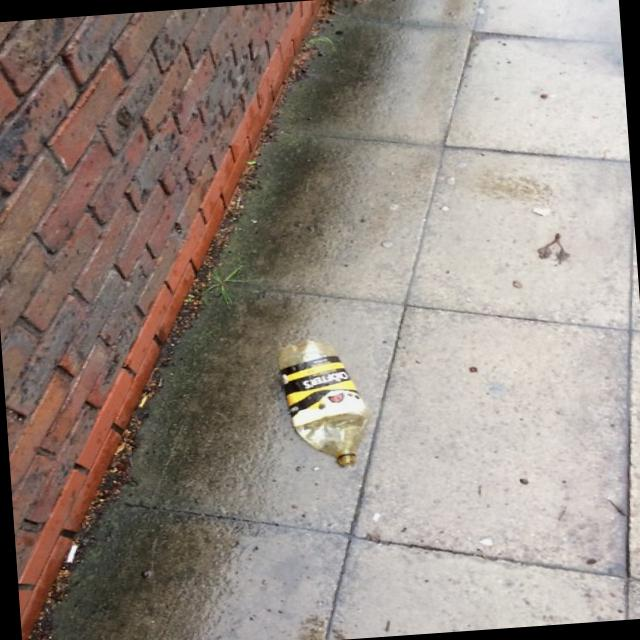Recycle: (276, 334, 376, 474)
